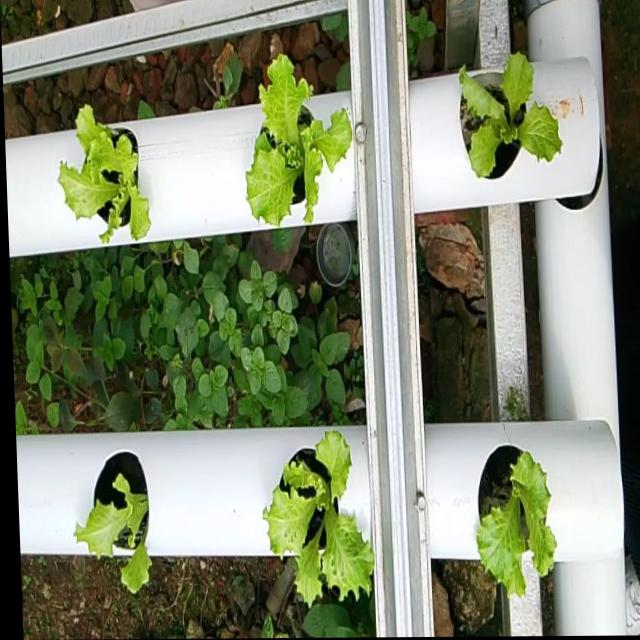Baby: (267, 433, 377, 612), (251, 58, 357, 230), (463, 57, 567, 185), (64, 105, 156, 244), (480, 449, 560, 601), (79, 450, 155, 591)
